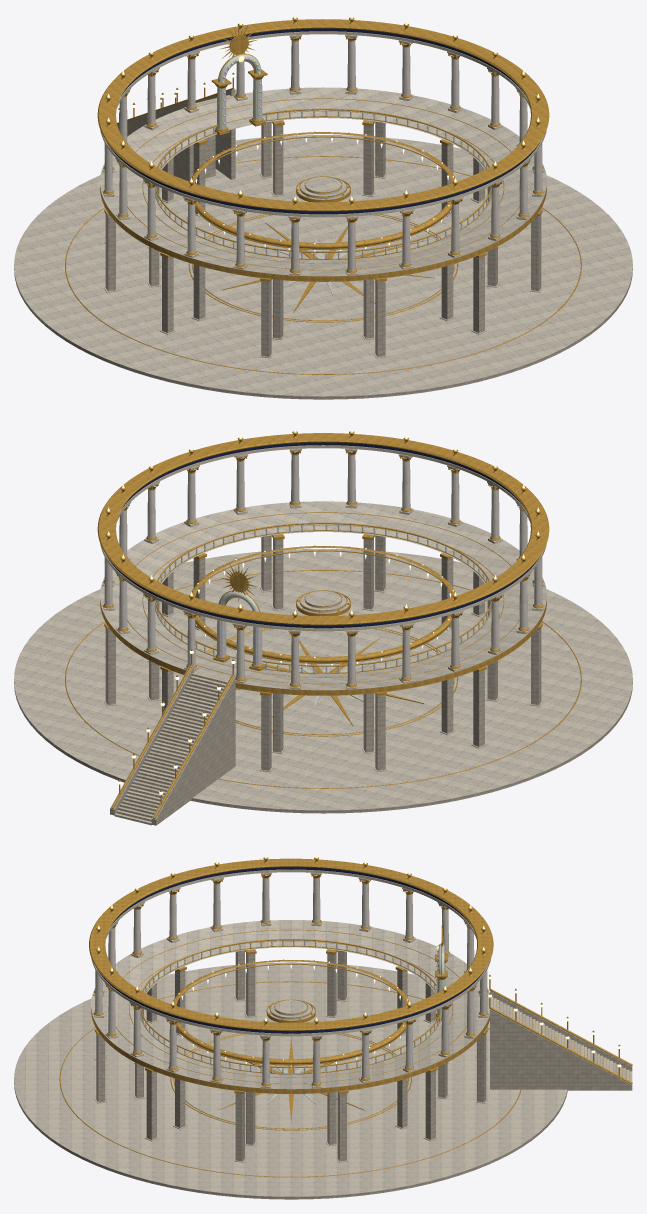
Rendered from lb_temple.glb.
The picture shows the model from 3 angles, top to bottom: view 1: azimuth 30°, elevation 25°; view 2: azimuth 150°, elevation 25°; view 3: azimuth 270°, elevation 25°; orthographic projection. The views are drawn at different scales.
Parts seen in each view (by area): view 1: lb_temple; view 2: lb_temple; view 3: lb_temple.
Part boxes in pixels (x1,y1,x2,y2): lb_temple: [14, 15, 632, 399]; lb_temple: [14, 428, 632, 825]; lb_temple: [14, 855, 632, 1199].
Size of the model in its own units: 72 by 23.44 by 80.36.
Materials: 10 (7 with a texture image).
